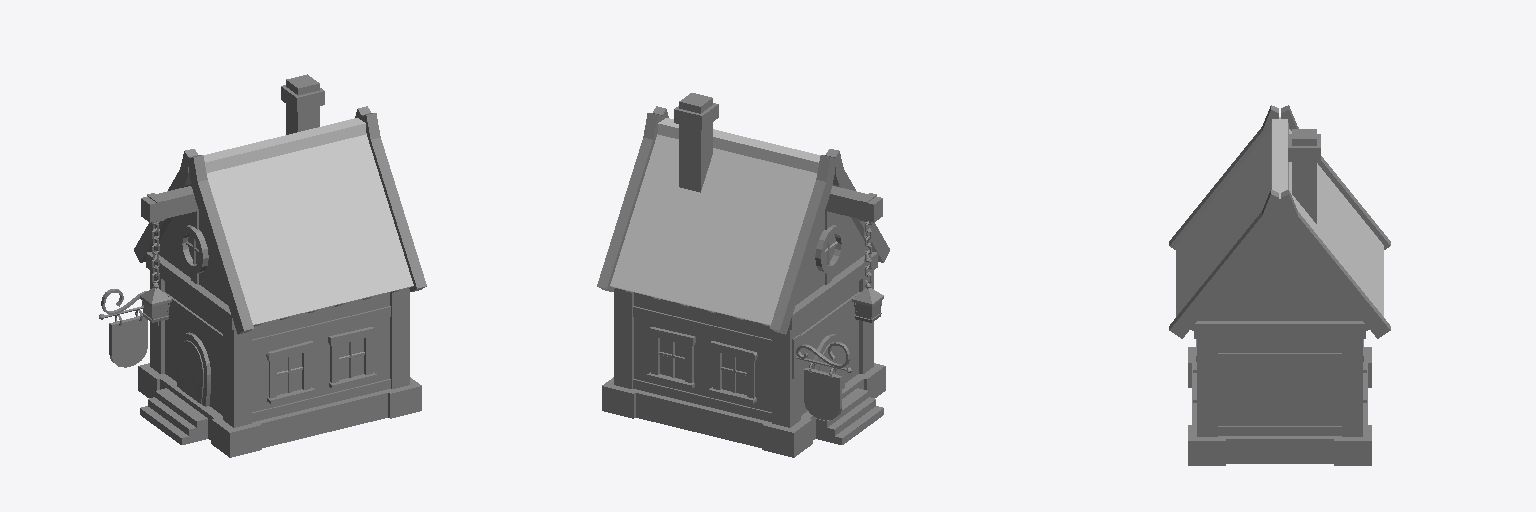
File: house.obj
The picture shows the model from 3 angles: view 1: azimuth 30°, elevation 25°; view 2: azimuth 150°, elevation 25°; view 3: azimuth 270°, elevation 25°; orthographic projection.
Visible parts, largest first — view 1: 03_krisha, 00_steni, 32_fundament, 02_stolby_krisha, 01_stolbi, 15_balki_goriz_2, 14_balki_goriz, 31_lestnica, 04_krisha_bok, 25_viveska, 17_rama_okno_goriz, 18_rama_okno_vertik (+7 smaller); view 2: 03_krisha, 00_steni, 32_fundament, 02_stolby_krisha, 01_stolbi, 15_balki_goriz_2, 08_truba, 14_balki_goriz, 31_lestnica, 04_krisha_bok, 25_viveska, 17_rama_okno_goriz (+5 smaller); view 3: 03_krisha, 00_steni, 02_stolby_krisha, 04_krisha_bok, 32_fundament, 14_balki_goriz, 01_stolbi, 08_truba, 09_truba_1.
Part boxes in pixels (left/top/right/bottom): 03_krisha: left=203, top=118, right=413, bottom=325; 00_steni: left=165, top=282, right=389, bottom=415; 32_fundament: left=138, top=363, right=421, bottom=457; 02_stolby_krisha: left=134, top=106, right=426, bottom=334; 01_stolbi: left=150, top=271, right=409, bottom=427; 15_balki_goriz_2: left=252, top=306, right=390, bottom=421; 14_balki_goriz: left=146, top=252, right=235, bottom=345; 31_lestnica: left=140, top=388, right=207, bottom=444; 04_krisha_bok: left=155, top=212, right=228, bottom=305; 25_viveska: left=109, top=316, right=147, bottom=367; 17_rama_okno_goriz: left=266, top=327, right=376, bottom=403; 18_rama_okno_vertik: left=269, top=336, right=372, bottom=398; 03_krisha: left=610, top=118, right=820, bottom=325; 00_steni: left=634, top=282, right=858, bottom=415; 32_fundament: left=602, top=363, right=885, bottom=457; 02_stolby_krisha: left=597, top=106, right=889, bottom=334; 01_stolbi: left=614, top=271, right=873, bottom=427; 15_balki_goriz_2: left=633, top=306, right=771, bottom=421; 08_truba: left=679, top=93, right=712, bottom=192; 14_balki_goriz: left=788, top=252, right=877, bottom=344; 31_lestnica: left=816, top=388, right=883, bottom=444; 04_krisha_bok: left=795, top=185, right=868, bottom=305; 25_viveska: left=804, top=368, right=841, bottom=420; 17_rama_okno_goriz: left=647, top=327, right=757, bottom=403; 03_krisha: left=1176, top=117, right=1383, bottom=316; 00_steni: left=1218, top=339, right=1341, bottom=425; 02_stolby_krisha: left=1169, top=105, right=1390, bottom=338; 04_krisha_bok: left=1198, top=199, right=1361, bottom=320; 32_fundament: left=1188, top=347, right=1371, bottom=465; 14_balki_goriz: left=1194, top=321, right=1365, bottom=435; 01_stolbi: left=1197, top=339, right=1362, bottom=436; 08_truba: left=1292, top=129, right=1316, bottom=223; 09_truba_1: left=1288, top=134, right=1320, bottom=161.
Size of the model in its own units: 86.58 by 104 by 68.82.